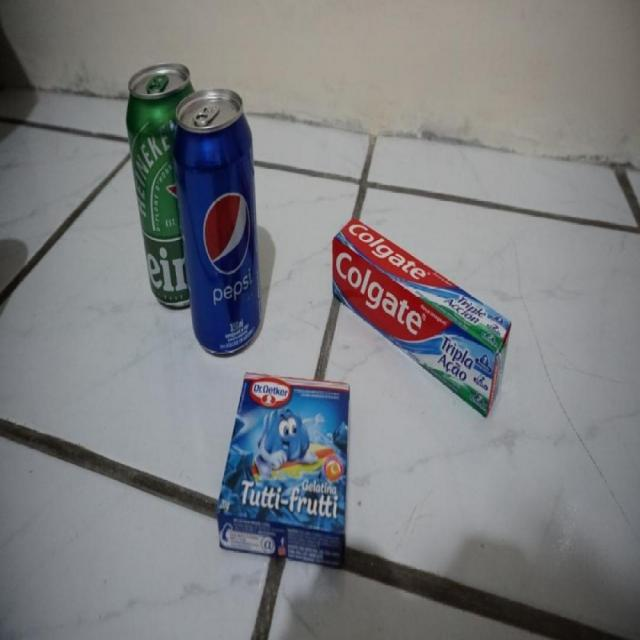BeerCan: (126, 62, 176, 308)
Gelatine: (218, 370, 350, 566)
SodaCan: (176, 87, 262, 352)
Toothpaste: (332, 218, 518, 372)
